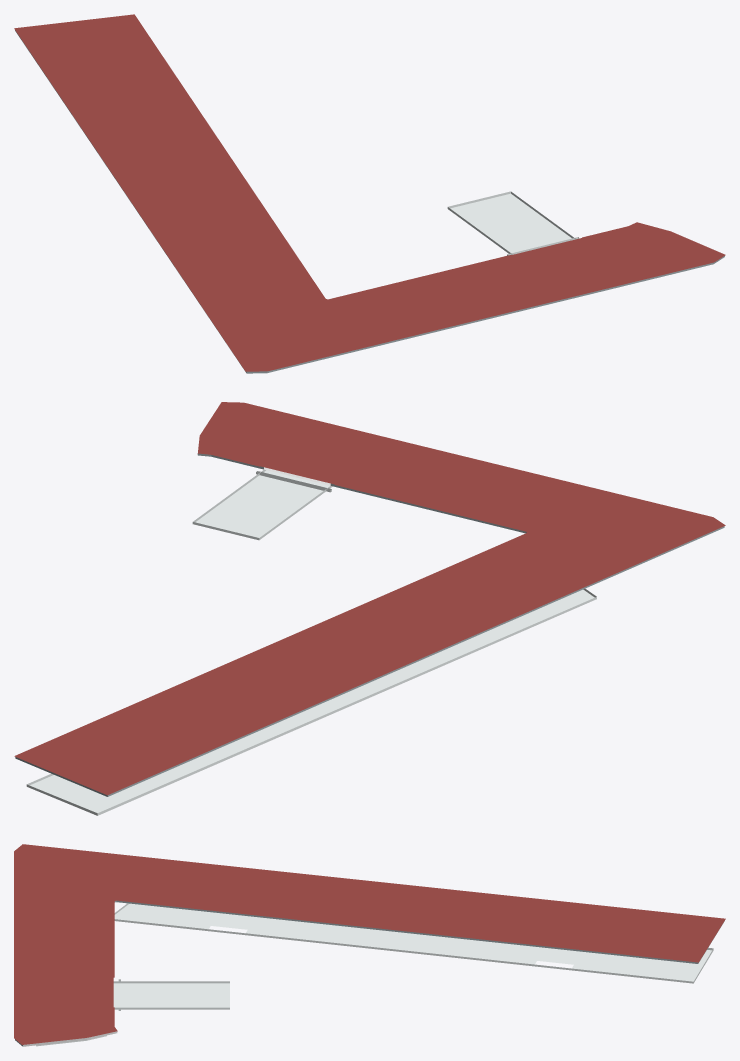
Rendered from techo_subtecho_plantabaja.glb.
The picture shows the model from 3 angles, top to bottom: view 1: azimuth 30°, elevation 25°; view 2: azimuth 150°, elevation 25°; view 3: azimuth 270°, elevation 25°; orthographic projection. The views are drawn at different scales.
Visible parts, largest first — view 1: planta baja, subtechos, techo; view 2: planta baja, subtechos, techo; view 3: planta baja, subtechos, techo.
Part boxes in pixels (x1=…): planta baja: x1=14, y1=14, x2=725, y2=371; subtechos: x1=447, y1=191, x2=579, y2=255; techo: x1=15, y1=30, x2=724, y2=373; planta baja: x1=14, y1=402, x2=725, y2=795; subtechos: x1=26, y1=469, x2=596, y2=815; techo: x1=15, y1=453, x2=724, y2=796; planta baja: x1=14, y1=844, x2=725, y2=1044; subtechos: x1=36, y1=903, x2=713, y2=1046; techo: x1=15, y1=900, x2=724, y2=1046.
Bounding box in the file's own units: 397 × 22.87 × 594.
Materials: 4 (1 with a texture image).
